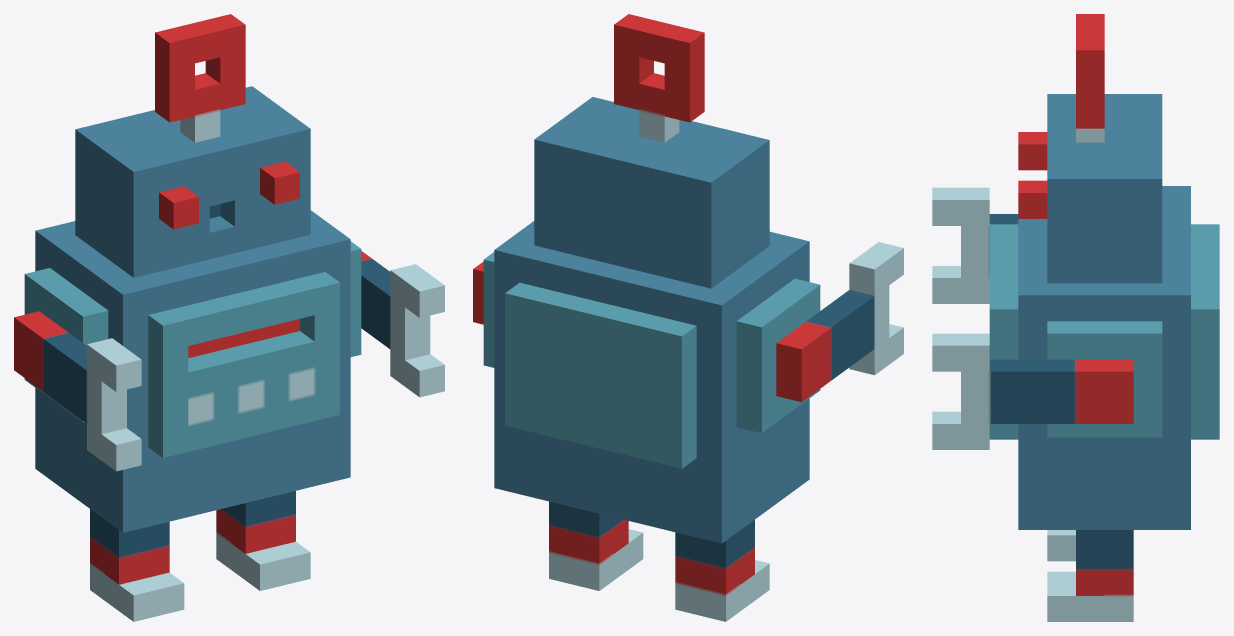
Rendered from Robot.fbx.
3 renders of one model, left to right at view 1: azimuth 30°, elevation 25°; view 2: azimuth 150°, elevation 25°; view 3: azimuth 270°, elevation 25°, orthographic.
Parts seen in each view (by area): view 1: Robot; view 2: Robot; view 3: Robot.
Part boxes in pixels (box(x1,y1,x2,y2)): Robot: box(14, 14, 444, 621); Robot: box(473, 14, 903, 621); Robot: box(932, 14, 1219, 621).
Bounding box in the file's own units: 81.25 × 131 × 62.5.
